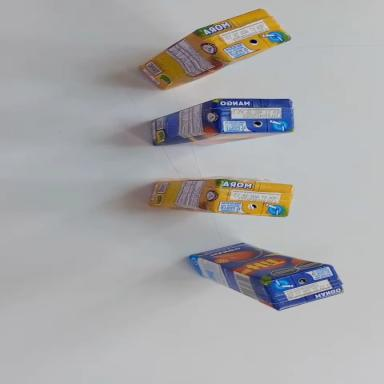HIT-MANGO: (183, 231, 347, 325), (147, 88, 296, 153)
HIT-MORA: (135, 0, 292, 98), (148, 175, 293, 217)
cara_F: (190, 231, 329, 297), (154, 123, 291, 153)
